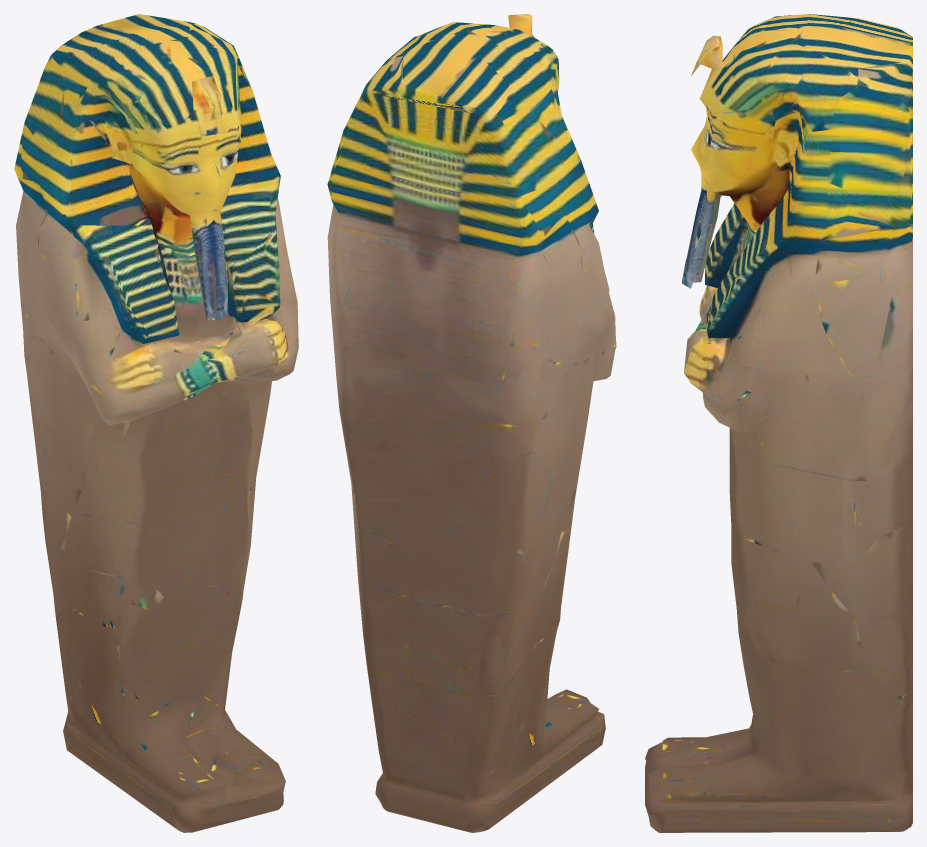
The model's file is sarcophagus.glb.
The picture shows the model from 3 angles, left to right: view 1: azimuth 30°, elevation 25°; view 2: azimuth 150°, elevation 25°; view 3: azimuth 270°, elevation 25°; orthographic projection. The views are drawn at different scales.
Parts seen in each view (by area): view 1: 0; view 2: 0; view 3: 0.
Boxes of the visible parts, x1,y1,x2,y2 form: 0: [14, 14, 298, 832]; 0: [327, 14, 616, 832]; 0: [645, 14, 912, 832].
Size of the model in its own units: 0.6183 by 1.91 by 0.595.
Materials: 1 (1 with a texture image).
